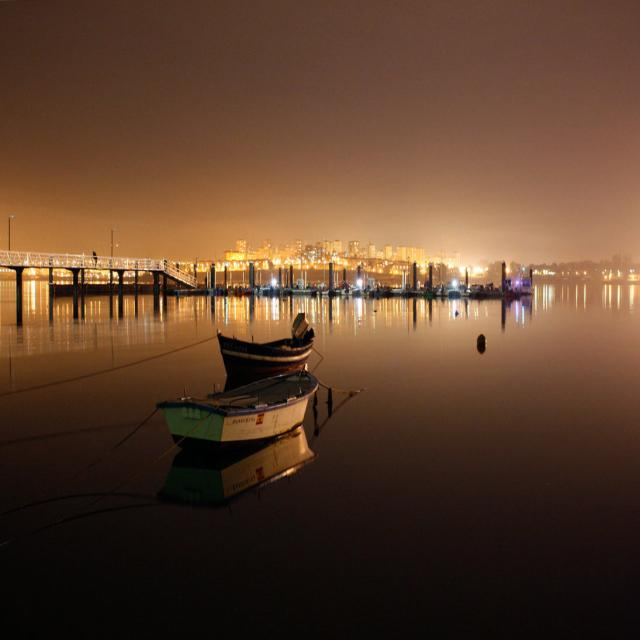Boat: (136, 369, 369, 471), (219, 304, 345, 367)
